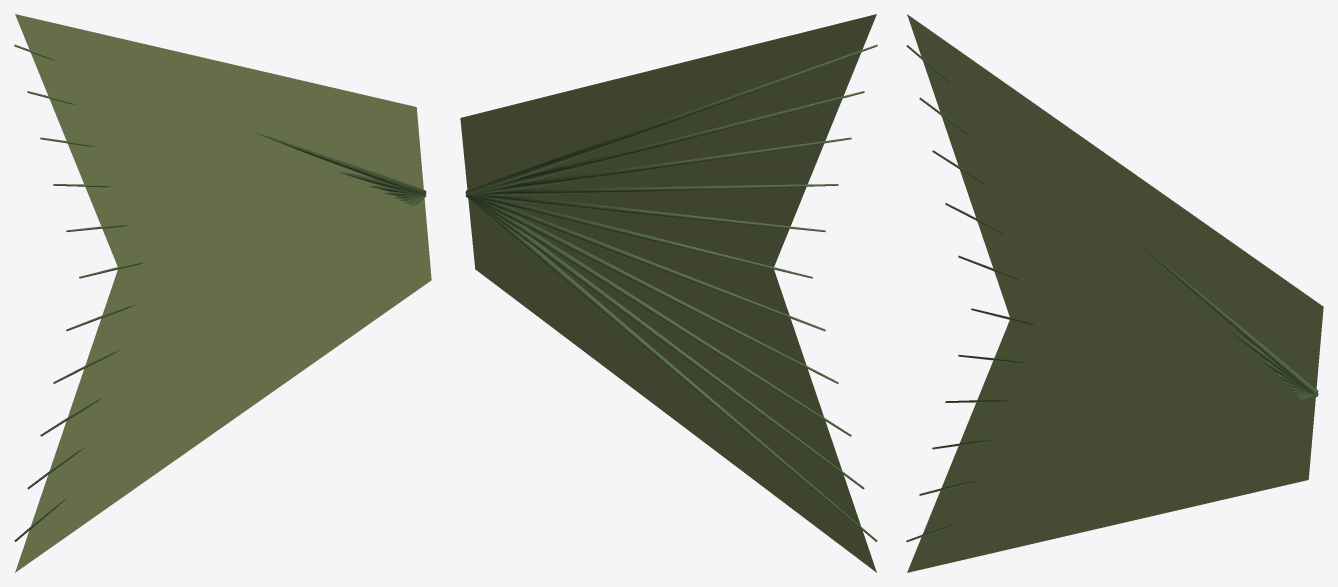
The model's file is SM_BassTail.fbx.
3 views of the same model, side by side, from view 1: azimuth 30°, elevation 25°; view 2: azimuth 150°, elevation 25°; view 3: azimuth 330°, elevation 25° (orthographic).
Parts seen in each view (by area): view 1: SM_BassTail; view 2: SM_BassTail; view 3: SM_BassTail.
Part boxes in pixels (x1,y1,x2,y2): SM_BassTail: (14, 14, 431, 572); SM_BassTail: (460, 14, 877, 572); SM_BassTail: (906, 14, 1323, 572).
Size of the model in its own units: 9.55 by 0.6 by 12.4.
